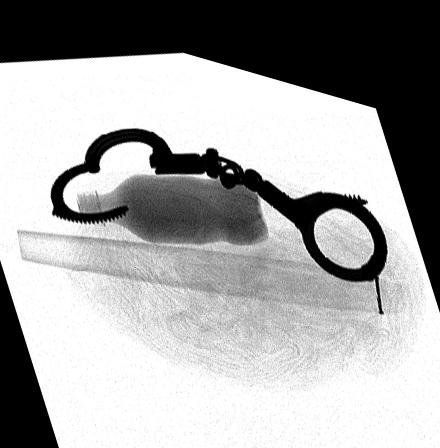HandCuffs: (50, 120, 388, 261)
